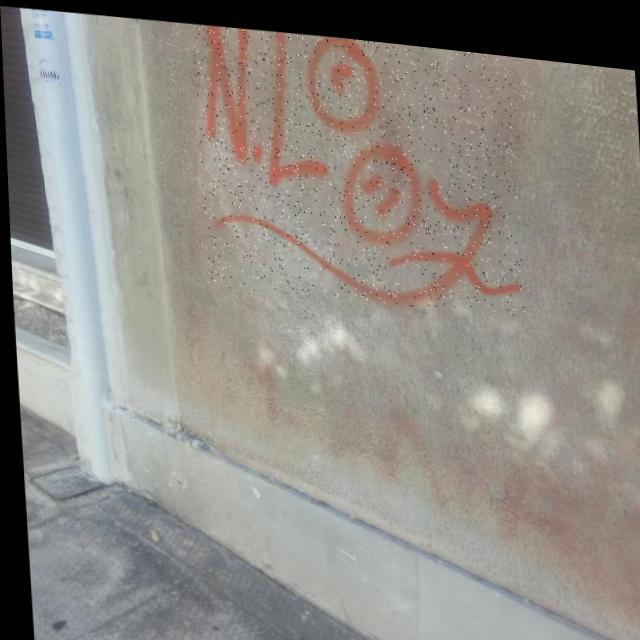-: (191, 17, 522, 310)
